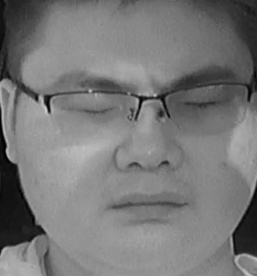blink: (80, 100, 114, 119), (183, 95, 217, 110)
glass: (47, 89, 143, 141), (159, 82, 248, 133)
mouth: (113, 187, 185, 227)
